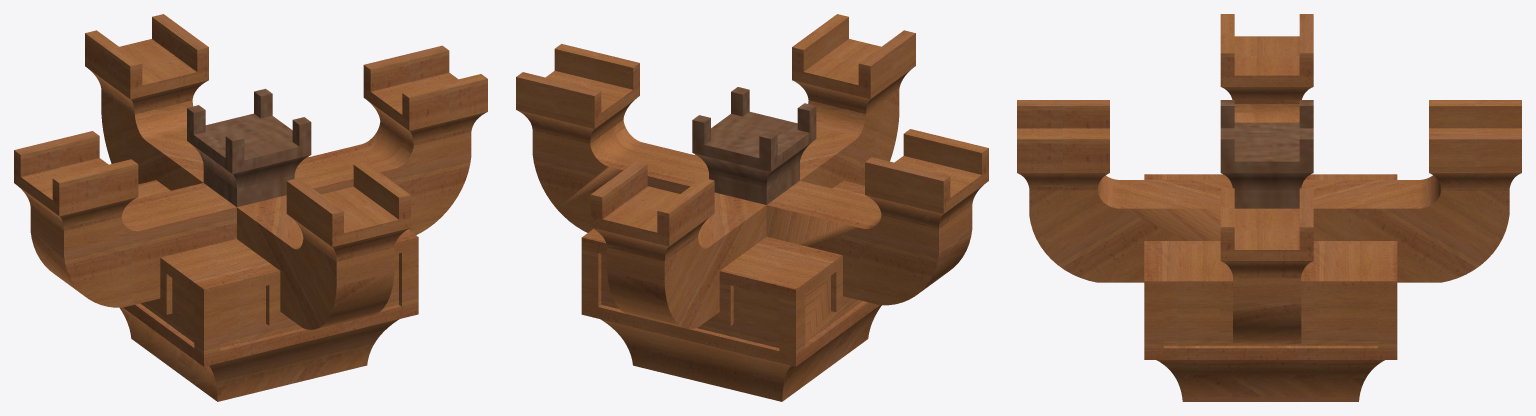
3 views of the same model, side by side, from view 1: azimuth 30°, elevation 25°; view 2: azimuth 150°, elevation 25°; view 3: azimuth 270°, elevation 25° (orthographic). The views are drawn at different scales.
Parts seen in each view (by area): view 1: samor_4136_6017, samor_4136_6023, samor_4136_6019, samor_4136_6018, samor_4136_6024, samor_4136_6026, samor_4136_6025, samor_4136_6021, samor_4136_6022, samor_4136_6020; view 2: samor_4136_6017, samor_4136_6023, samor_4136_6020, samor_4136_6018, samor_4136_6024, samor_4136_6025, samor_4136_6026, samor_4136_6022, samor_4136_6021, samor_4136_6019; view 3: samor_4136_6017, samor_4136_6020, samor_4136_6019, samor_4136_6021, samor_4136_6022, samor_4136_6018, samor_4136_6026, samor_4136_6025, samor_4136_6024, samor_4136_6023.
Part boxes in pixels (<box>): samor_4136_6017: <box>120,156,418,401</box>; samor_4136_6023: <box>30,183,236,307</box>; samor_4136_6019: <box>237,195,394,329</box>; samor_4136_6018: <box>187,88,311,206</box>; samor_4136_6024: <box>294,122,471,234</box>; samor_4136_6026: <box>363,45,487,145</box>; samor_4136_6025: <box>14,131,138,231</box>; samor_4136_6021: <box>286,161,410,261</box>; samor_4136_6022: <box>85,14,208,114</box>; samor_4136_6020: <box>101,90,203,190</box>; samor_4136_6017: <box>581,154,881,401</box>; samor_4136_6023: <box>766,181,972,305</box>; samor_4136_6020: <box>607,192,766,328</box>; samor_4136_6018: <box>692,87,816,204</box>; samor_4136_6024: <box>532,120,708,232</box>; samor_4136_6025: <box>865,129,988,228</box>; samor_4136_6026: <box>516,44,639,143</box>; samor_4136_6022: <box>590,161,714,261</box>; samor_4136_6021: <box>792,14,915,113</box>; samor_4136_6019: <box>800,90,899,188</box>; samor_4136_6017: <box>1144,174,1397,401</box>; samor_4136_6020: <box>1301,175,1509,282</box>; samor_4136_6019: <box>1029,175,1232,282</box>; samor_4136_6021: <box>1017,100,1109,190</box>; samor_4136_6022: <box>1429,100,1521,190</box>; samor_4136_6018: <box>1220,100,1313,208</box>; samor_4136_6026: <box>1220,188,1313,278</box>; samor_4136_6025: <box>1220,14,1313,103</box>; samor_4136_6024: <box>1233,208,1301,344</box>; samor_4136_6023: <box>1234,104,1299,122</box>.
Size of the model in its own units: 39.11 by 20.84 by 39.09.
Materials: 2 (2 with a texture image).
